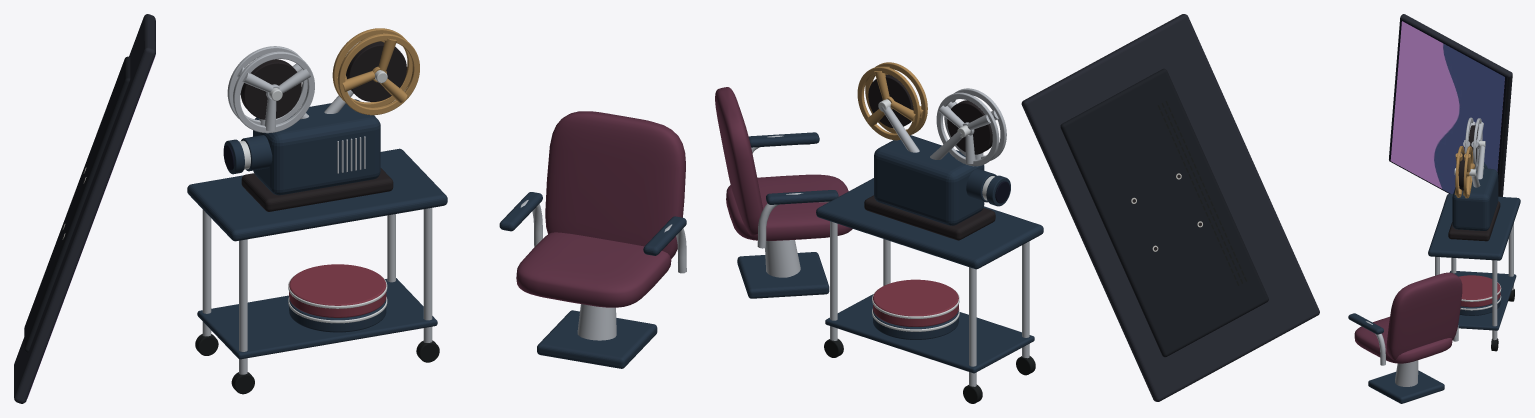
Rendered from nocturne.glb.
3 renders of one model, left to right at view 1: azimuth 30°, elevation 25°; view 2: azimuth 150°, elevation 25°; view 3: azimuth 270°, elevation 25°, orthographic. The views are drawn at different scales.
Parts seen in each view (by area): view 1: Padded back, Projector table, Seat pan, Motor housing, Lower trolley shelf, TV / graphite frame.009, Film canister.001, TV / rear enclosure.009, Bolted base, Projector shoe, Film winding, Film winding.001 (+13 smaller); view 2: TV / graphite frame.009, TV / rear enclosure.009, Motor housing, Projector table, Lower trolley shelf, Seat pan, Padded back, Film canister.001, Bolted base, Projector shoe, Film winding, Open spool flange.001 (+13 smaller); view 3: TV / active picture.019, TV / active picture.018, Padded back, Projector table, Motor housing, TV / graphite frame.009, Seat pan, Bolted base, Lower trolley shelf, Film canister.001, TV / glass surround.009, Projector shoe (+11 smaller).
Boxes of the visible parts, box(x1,y1,x2,y2) form: Padded back: box(545, 111, 685, 258); Projector table: box(187, 148, 447, 241); Seat pan: box(516, 232, 671, 307); Motor housing: box(253, 99, 380, 195); Lower trolley shelf: box(197, 278, 437, 359); TV / graphite frame.009: box(14, 14, 155, 403); Film canister.001: box(289, 264, 386, 317); TV / rear enclosure.009: box(24, 56, 130, 352); Bolted base: box(537, 310, 657, 368); Projector shoe: box(241, 168, 393, 211); Film winding: box(240, 59, 301, 119); Film winding.001: box(346, 41, 406, 101); TV / graphite frame.009: box(1021, 14, 1319, 401); TV / rear enclosure.009: box(1060, 68, 1268, 357); Motor housing: box(874, 135, 984, 225); Projector table: box(816, 178, 1043, 269); Lower trolley shelf: box(825, 294, 1034, 373); Seat pan: box(726, 174, 852, 240); Padded back: box(715, 87, 763, 235); Film canister.001: box(873, 279, 958, 326); Bolted base: box(737, 252, 829, 298); Projector shoe: box(864, 195, 995, 240); Film winding: box(947, 100, 992, 154); Open spool flange.001: box(936, 92, 999, 166); TV / active picture.019: box(1396, 21, 1504, 146); TV / active picture.018: box(1390, 91, 1499, 193); Padded back: box(1386, 272, 1462, 360); Projector table: box(1428, 194, 1520, 260); Motor housing: box(1452, 168, 1498, 230); TV / graphite frame.009: box(1389, 14, 1512, 196); Seat pan: box(1354, 316, 1452, 363); Bolted base: box(1368, 370, 1444, 403); Lower trolley shelf: box(1449, 271, 1516, 330); Film canister.001: box(1459, 275, 1500, 307); TV / glass surround.009: box(1389, 19, 1506, 193); Projector shoe: box(1448, 201, 1500, 241).
Bounding box in the file's own units: 10.25 × 5.93 × 3.81.
Materials: 14 (2 with a texture image).
